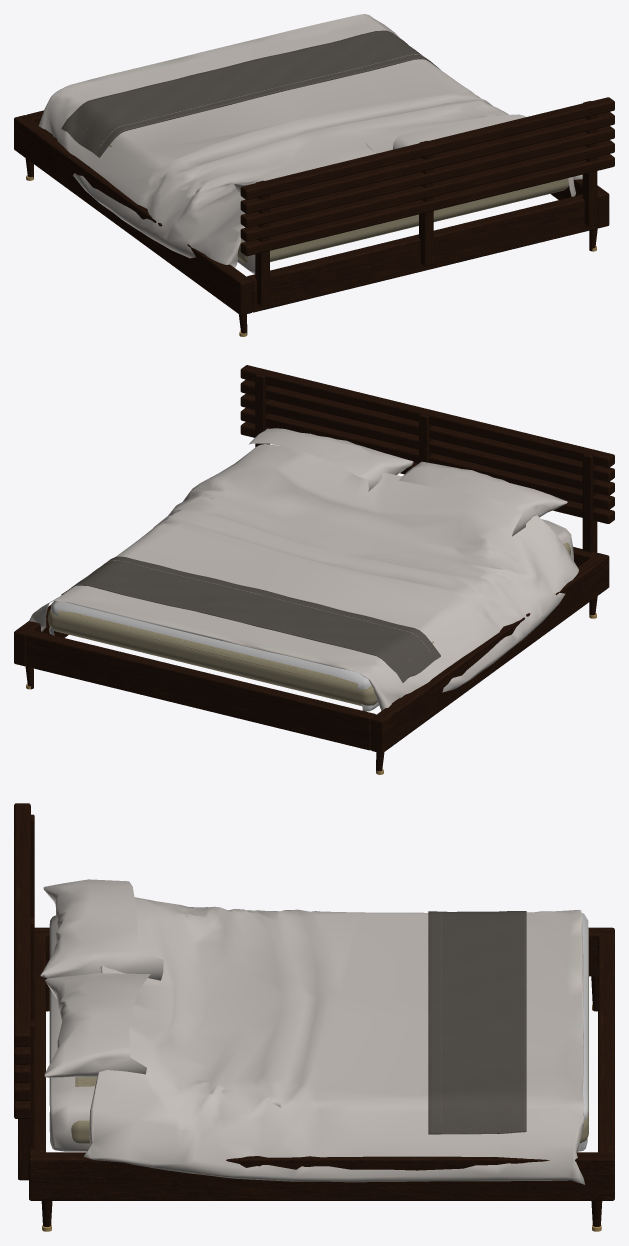
Rendered from refined-low-walnut-bed.glb.
3 views of the same model, one above another, from view 1: azimuth 30°, elevation 25°; view 2: azimuth 150°, elevation 25°; view 3: azimuth 270°, elevation 25° (orthographic). The views are drawn at different scales.
Parts seen in each view (by area): view 1: walnut_0, complete_source_bedding, folded_woven_runner, linen_0; view 2: complete_source_bedding, walnut_0, folded_woven_runner, linen_0; view 3: complete_source_bedding, walnut_0, folded_woven_runner, linen_0.
Boxes of the visible parts, x1,y1,x2,y2 form: walnut_0: [14, 97, 614, 334]; complete_source_bedding: [38, 14, 582, 273]; folded_woven_runner: [61, 30, 440, 157]; linen_0: [87, 129, 569, 263]; complete_source_bedding: [29, 428, 578, 711]; walnut_0: [14, 365, 614, 772]; folded_woven_runner: [61, 556, 440, 682]; linen_0: [48, 542, 570, 705]; complete_source_bedding: [40, 879, 588, 1184]; walnut_0: [14, 803, 614, 1226]; folded_woven_runner: [428, 911, 526, 1134]; linen_0: [71, 928, 588, 1143].
Size of the model in its own units: 2.17 by 0.8564 by 2.32.
6 materials, 4 textured.
